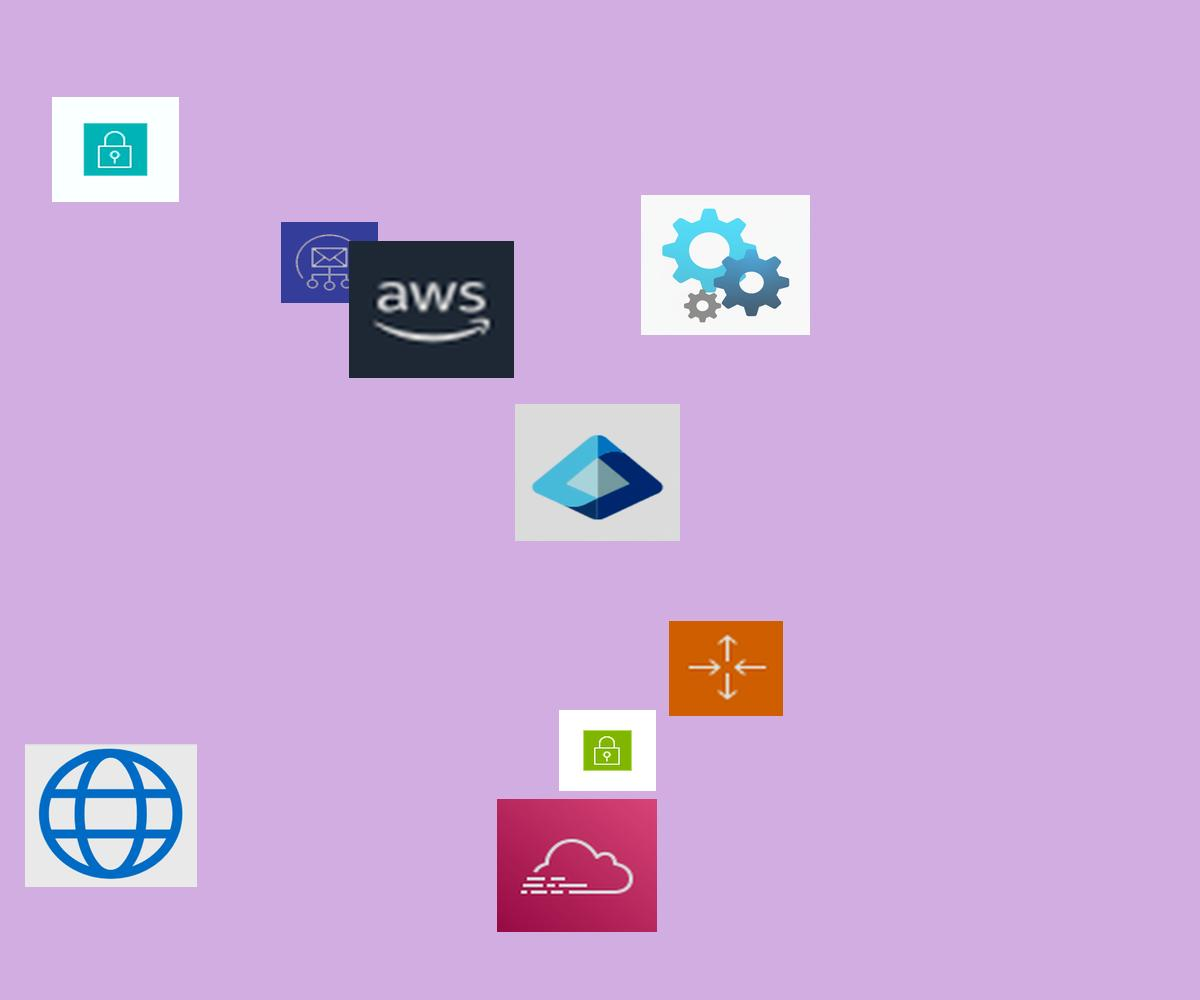AWS-Cloud-logo: (349, 241, 514, 378)
AWS-CloudTrail: (497, 799, 657, 932)
AWS-Private-subnet: (52, 97, 179, 202)
AWS-Public-subnet: (559, 710, 656, 791)
AWS-Scaling-group: (669, 621, 783, 716)
AWS-Simple-Email-Service: (281, 222, 378, 303)
Azure_api: (641, 195, 810, 335)
Azure_http: (25, 744, 197, 887)
Azure_microsoft_entra: (515, 404, 680, 541)
